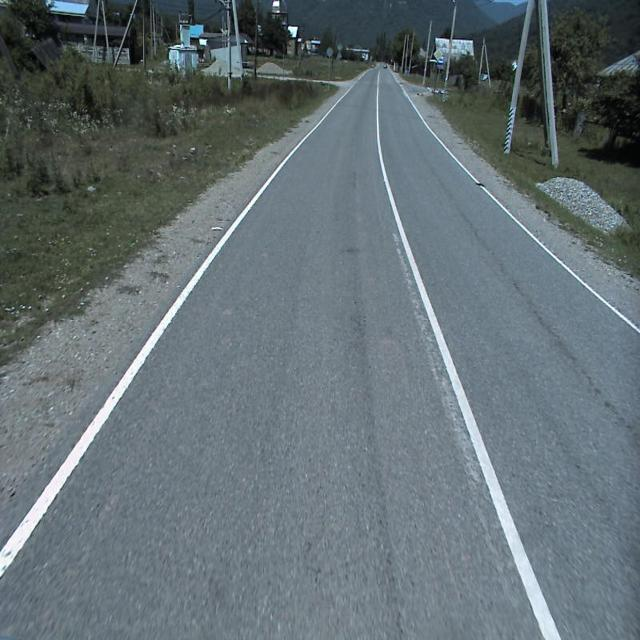road: (0, 62, 640, 639)
